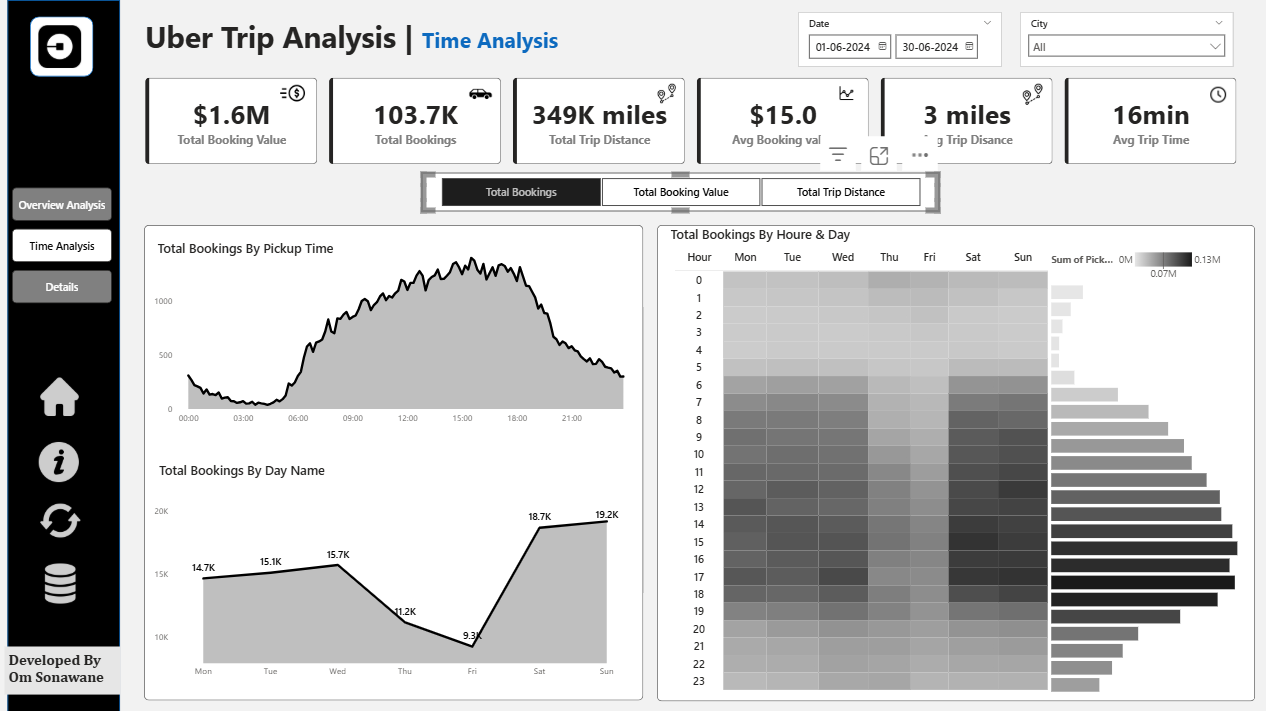

What the dashboard file says about the page in this screenshot:
{"tool":"powerbi","page":{"name":"Time Analysis","canvas":[1600,900],"ordinal":1},"visuals":[{"type":"shape","box":[8.7,0,142.1,900],"z":0},{"type":"textbox","box":[178,15.3,602,68],"z":1000},{"type":"cardVisual","fields":{"Data":["Trip Details.Total Booking Amount","Trip Details.Total Bookings","Trip Details.Total Trip Distance","Trip Details.Avg Booking Amount","Trip Details.Avg Trip Disance","Trip Details.Avg Trip Time"]},"box":[178,92.7,1391.3,119.3],"z":2000},{"type":"image","box":[325.7,96.2,87.4,41.5],"z":3000},{"type":"image","box":[581.4,98.4,50.3,39.3],"z":4000},{"type":"image","box":[815.3,100.5,52.5,35],"z":5000},{"type":"image","box":[1272.1,100.5,63.4,37.2],"z":6000},{"type":"image","box":[1508.2,104.9,56.8,30.6],"z":7000},{"type":"image","box":[1033.9,102.7,69.9,30.6],"z":8000},{"type":"shape","box":[181.7,283.9,630,600],"z":9000},{"type":"slicer","fields":{"Values":["Dynamic Measure .Dynamic Measure "]},"box":[532.5,218.1,653.1,48.8],"z":10000},{"type":"slicer","fields":{"Values":["Calendar Table.Date"]},"box":[1006.7,15.3,257.3,69.3],"z":11000},{"type":"slicer","fields":{"Values":["Location Table.City"]},"box":[1286.7,15.3,269.3,69.3],"z":12000},{"type":"areaChart","fields":{"Y":["Trip Details.Total Trip Distance Measure"],"Category":["Trip Details.Pickup Hour (HH MM SS) (bins)"]},"box":[188.3,310,615,233.3],"z":13000},{"type":"cardVisual","fields":{"Data":["Trip Details.Title For By Pickup Time"]},"box":[181.7,275.5,315.5,53.9],"z":14000},{"type":"areaChart","fields":{"Y":["Trip Details.Total Trip Distance Measure"],"Category":["Calendar Table.Day Name"]},"box":[188.3,630,615,233.3],"z":15000},{"type":"cardVisual","fields":{"Data":["Trip Details.Title For By Day Name"]},"box":[183.7,557.1,313.5,53.9],"z":16000},{"type":"shape","box":[828.6,283.5,754.7,601],"z":17000},{"type":"pivotTable","fields":{"Values":["Trip Details.Total Trip Distance Measure"],"Rows":["Trip Details.Pickup Hour"],"Columns":["Calendar Table.Day Name"]},"box":[846,308,524,572],"z":18000},{"type":"barChart","fields":{"Y":["Trip Details.Total Trip Distance Measure"],"Category":["Trip Details.Pickup Hour"]},"box":[1321.8,311,247.6,589],"z":19000},{"type":"cardVisual","fields":{"Data":["Trip Details.Title For By Houre & Day"]},"box":[828.5,260,315.4,53.8],"z":20000},{"type":"shape","box":[37.1,20,79.9,75.9],"z":21000},{"type":"image","box":[40.2,26.2,70.8,64.6],"z":22000},{"type":"pageNavigator","box":[15.5,236.4,126.4,146.4],"z":23000},{"type":"image","box":[45.9,465.6,59,69.9],"z":24000},{"type":"image","box":[45.9,699.5,61.2,72.1],"z":25000},{"type":"image","box":[43.7,546.4,61.2,72.1],"z":26000},{"type":"image","box":[45.9,620.8,61.2,72.1],"z":27000},{"type":"textbox","box":[5.7,815.8,145.7,60.6],"z":28001}]}

Visuals, with their boxes in screenshot pixels (x1, y1, x2, y2), scaled from the page's 1600x900 canvas onto the 1266x711 screenshot:
shape: [7, 0, 119, 710]
textbox: [141, 12, 617, 66]
cardVisual - Trip Details.Total Booking Amount x Trip Details.Total Bookings: [141, 73, 1242, 167]
image: [258, 76, 327, 109]
image: [460, 78, 500, 109]
image: [645, 79, 687, 107]
image: [1007, 79, 1057, 109]
image: [1193, 83, 1238, 107]
image: [818, 81, 873, 105]
shape: [144, 224, 642, 698]
slicer - Dynamic Measure .Dynamic Measure : [421, 172, 938, 211]
slicer - Calendar Table.Date: [797, 12, 1000, 67]
slicer - Location Table.City: [1018, 12, 1231, 67]
areaChart - Trip Details.Total Trip Distance Measure x Trip Details.Pickup Hour (HH MM SS) (bins): [149, 245, 636, 429]
cardVisual - Trip Details.Title For By Pickup Time: [144, 218, 393, 260]
areaChart - Trip Details.Total Trip Distance Measure x Calendar Table.Day Name: [149, 498, 636, 682]
cardVisual - Trip Details.Title For By Day Name: [145, 440, 393, 483]
shape: [656, 224, 1253, 699]
pivotTable - Trip Details.Total Trip Distance Measure x Trip Details.Pickup Hour: [669, 243, 1084, 695]
barChart - Trip Details.Total Trip Distance Measure x Trip Details.Pickup Hour: [1046, 246, 1242, 710]
cardVisual - Trip Details.Title For By Houre & Day: [656, 205, 905, 248]
shape: [29, 16, 93, 76]
image: [32, 21, 88, 72]
pageNavigator: [12, 187, 112, 302]
image: [36, 368, 83, 423]
image: [36, 553, 85, 610]
image: [35, 432, 83, 489]
image: [36, 490, 85, 547]
textbox: [5, 644, 120, 692]
